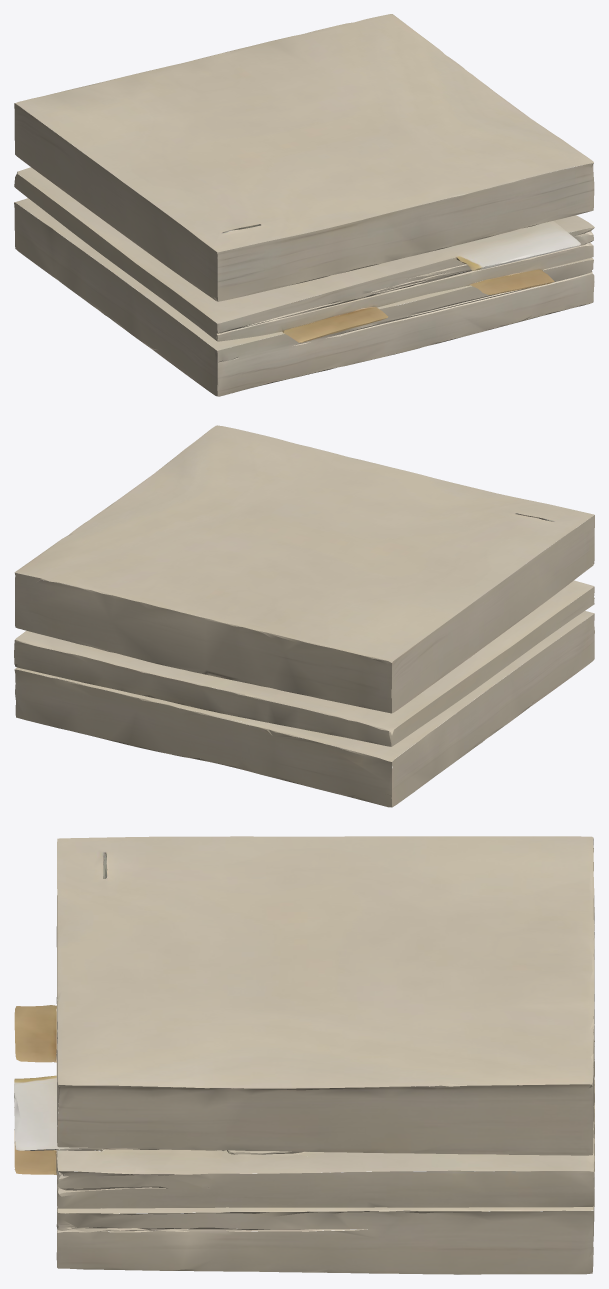
File: paper_stack.glb
3 renders of one model, top to bottom at view 1: azimuth 30°, elevation 25°; view 2: azimuth 150°, elevation 25°; view 3: azimuth 270°, elevation 25°, orthographic. The views are drawn at different scales.
Parts seen in each view (by area): view 1: Mesh; view 2: Mesh; view 3: Mesh.
Boxes of the visible parts, x1,y1,x2,y2 form: Mesh: (14,14,594,396); Mesh: (14,425,594,807); Mesh: (14,836,594,1274).
Bounding box in the file's own units: 1.88 × 0.7043 × 1.89.
1 material, 1 textured.
